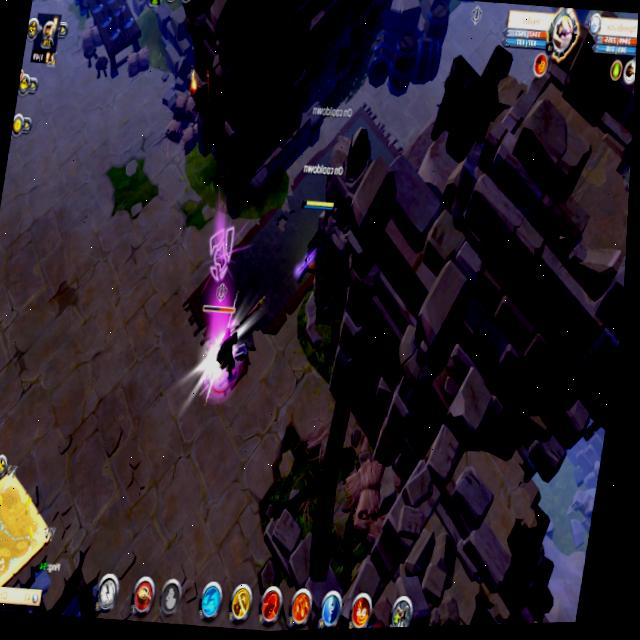ore: (182, 286, 260, 406)
red: (287, 190, 340, 291)
